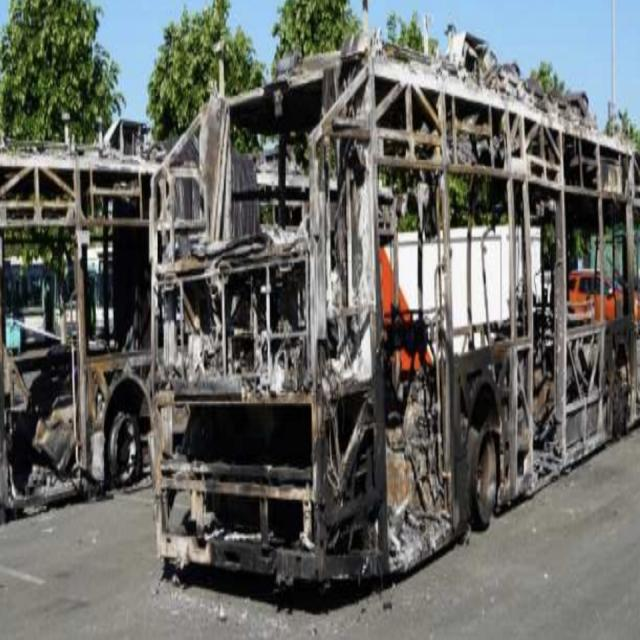Accident: (2, 37, 640, 617)
